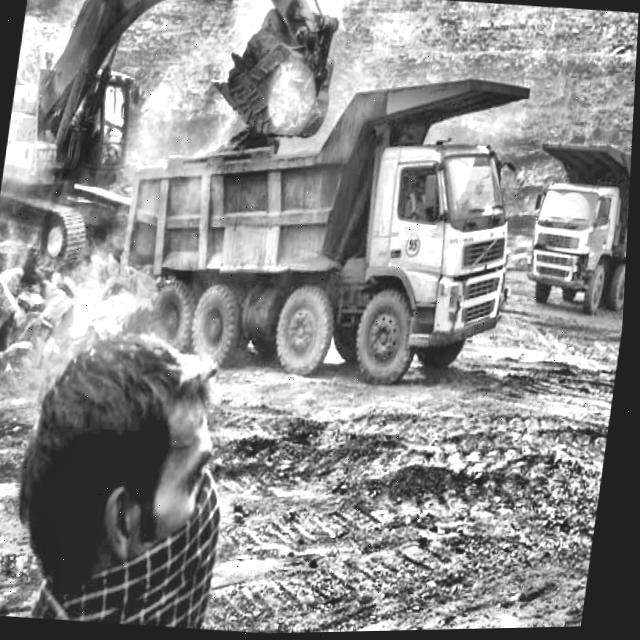dump_truck: (108, 51, 551, 398), (522, 126, 634, 331)
excavator: (0, 0, 220, 267)
